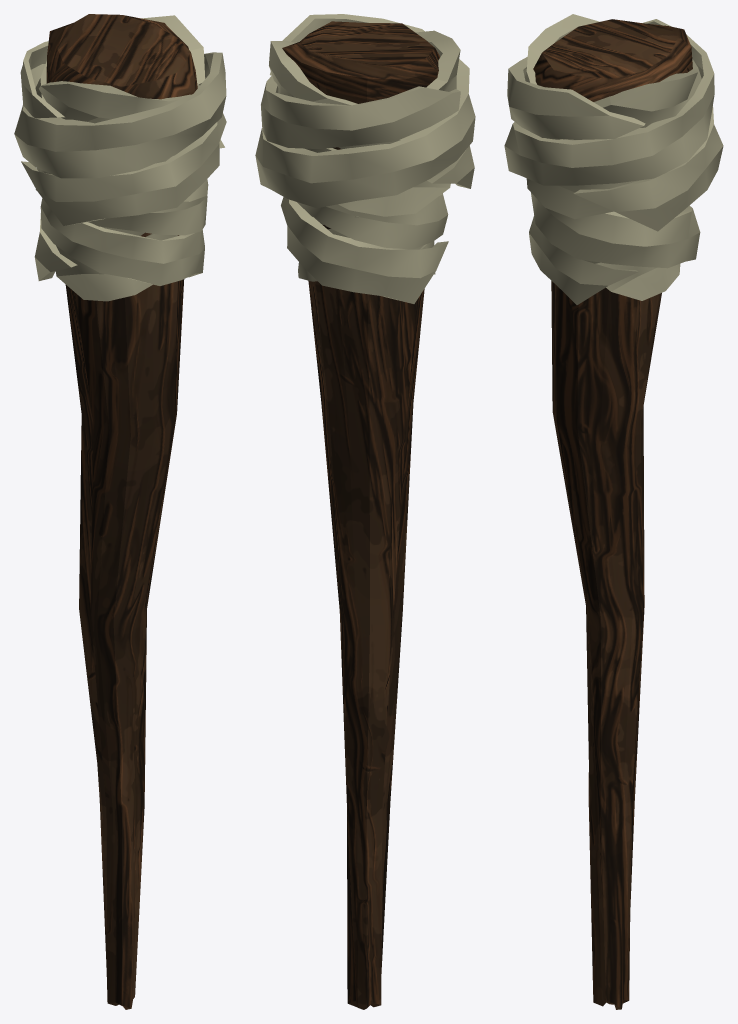
File: torchTexture03.fbx
The picture shows the model from 3 angles, left to right: view 1: azimuth 30°, elevation 25°; view 2: azimuth 150°, elevation 25°; view 3: azimuth 270°, elevation 25°; orthographic projection.
Parts seen in each view (by area): view 1: Torch_1; view 2: Torch_1; view 3: Torch_1.
Boxes of the visible parts, left/top/right/bottom form: Torch_1: left=14, top=14, right=226, bottom=1009; Torch_1: left=255, top=14, right=475, bottom=1009; Torch_1: left=504, top=14, right=723, bottom=1009.
Size of the model in its own units: 19.31 by 95.61 by 19.57.
